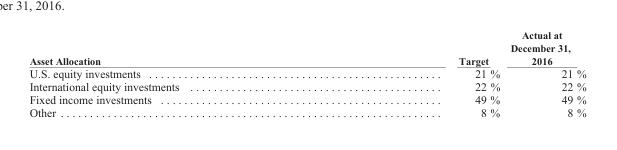table: (28, 28, 585, 118)
table column: (28, 28, 325, 118), (325, 28, 504, 118), (504, 28, 585, 118)
table column header: (28, 28, 585, 66)
table row: (28, 28, 585, 66), (28, 66, 585, 79), (28, 79, 585, 92), (28, 92, 585, 105), (28, 105, 585, 118)
